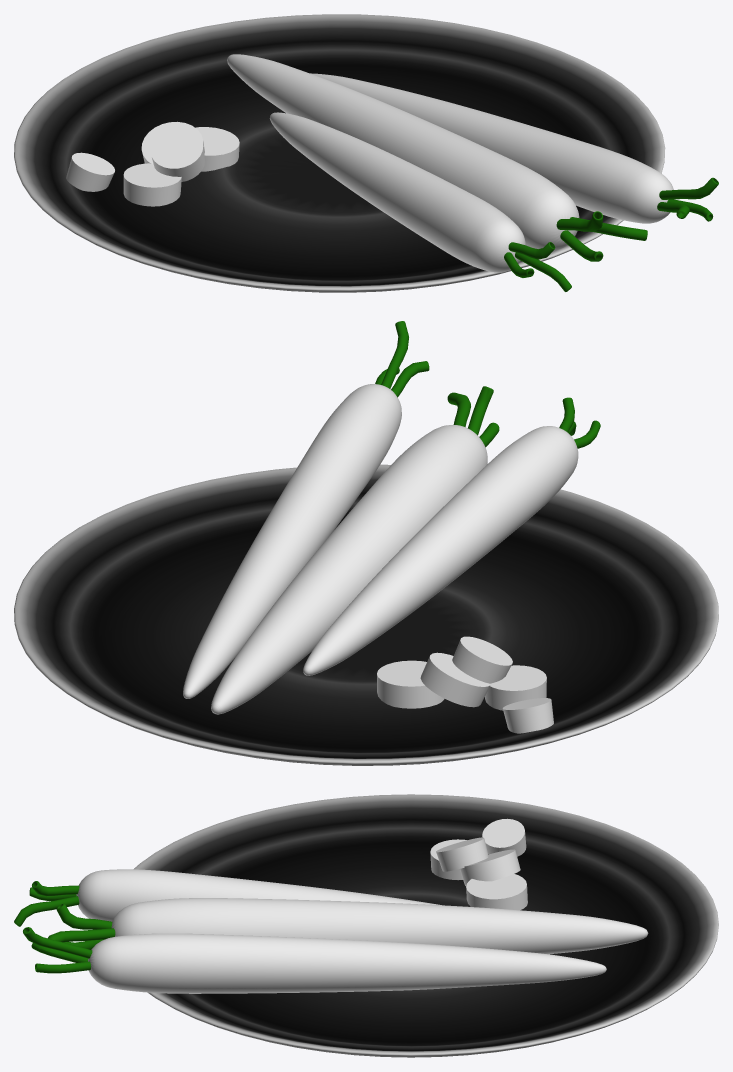
File: Carrots.fbx
The picture shows the model from 3 angles, top to bottom: view 1: azimuth 30°, elevation 25°; view 2: azimuth 150°, elevation 25°; view 3: azimuth 270°, elevation 25°; orthographic projection. The views are drawn at different scales.
Parts seen in each view (by area): view 1: Plate, Carrot.003, Carrot.001, Carrot.002, Carrot.006, Carrot.007, Top.003, Carrot.005, Top.001, Carrot.009, Top.002, Carrot.008; view 2: Plate, Carrot.003, Carrot.002, Carrot.001, Carrot.009, Carrot.008, Carrot.006, Carrot.007, Carrot.005, Top.003, Top.002, Top.001; view 3: Plate, Carrot.002, Carrot.003, Carrot.001, Carrot.009, Top.002, Top.003, Top.001, Carrot.008, Carrot.005, Carrot.006, Carrot.007.
Part boxes in pixels (left/top/right/bottom): Plate: left=14, top=14, right=665, bottom=292; Carrot.003: left=227, top=54, right=579, bottom=250; Carrot.001: left=269, top=112, right=525, bottom=272; Carrot.002: left=310, top=73, right=674, bottom=223; Carrot.006: left=150, top=129, right=204, bottom=181; Carrot.007: left=123, top=163, right=181, bottom=206; Top.003: left=556, top=211, right=647, bottom=261; Carrot.005: left=66, top=152, right=114, bottom=191; Top.001: left=504, top=242, right=571, bottom=291; Carrot.009: left=195, top=127, right=239, bottom=171; Top.002: left=657, top=177, right=718, bottom=221; Carrot.008: left=141, top=121, right=204, bottom=164; Plate: left=14, top=464, right=718, bottom=765; Carrot.003: left=211, top=425, right=487, bottom=714; Carrot.002: left=183, top=384, right=401, bottom=698; Carrot.001: left=303, top=426, right=578, bottom=675; Carrot.009: left=377, top=660, right=444, bottom=708; Carrot.008: left=420, top=652, right=490, bottom=707; Carrot.006: left=452, top=636, right=512, bottom=683; Carrot.007: left=485, top=665, right=546, bottom=710; Carrot.005: left=502, top=698, right=553, bottom=733; Top.003: left=447, top=386, right=499, bottom=447; Top.002: left=375, top=321, right=429, bottom=397; Top.001: left=559, top=397, right=600, bottom=448; Plate: left=134, top=794, right=718, bottom=1057; Carrot.002: left=88, top=933, right=606, bottom=993; Carrot.003: left=111, top=898, right=648, bottom=954; Carrot.001: left=76, top=869, right=441, bottom=921; Carrot.009: left=466, top=874, right=527, bottom=910; Top.002: left=23, top=927, right=92, bottom=973; Top.003: left=48, top=903, right=115, bottom=949; Top.001: left=14, top=881, right=79, bottom=926; Carrot.008: left=460, top=849, right=520, bottom=885; Carrot.005: left=482, top=818, right=526, bottom=856; Carrot.006: left=436, top=837, right=488, bottom=871; Carrot.007: left=430, top=839, right=466, bottom=880.
Bounding box in the file's own units: 201 × 36.5 × 230.
